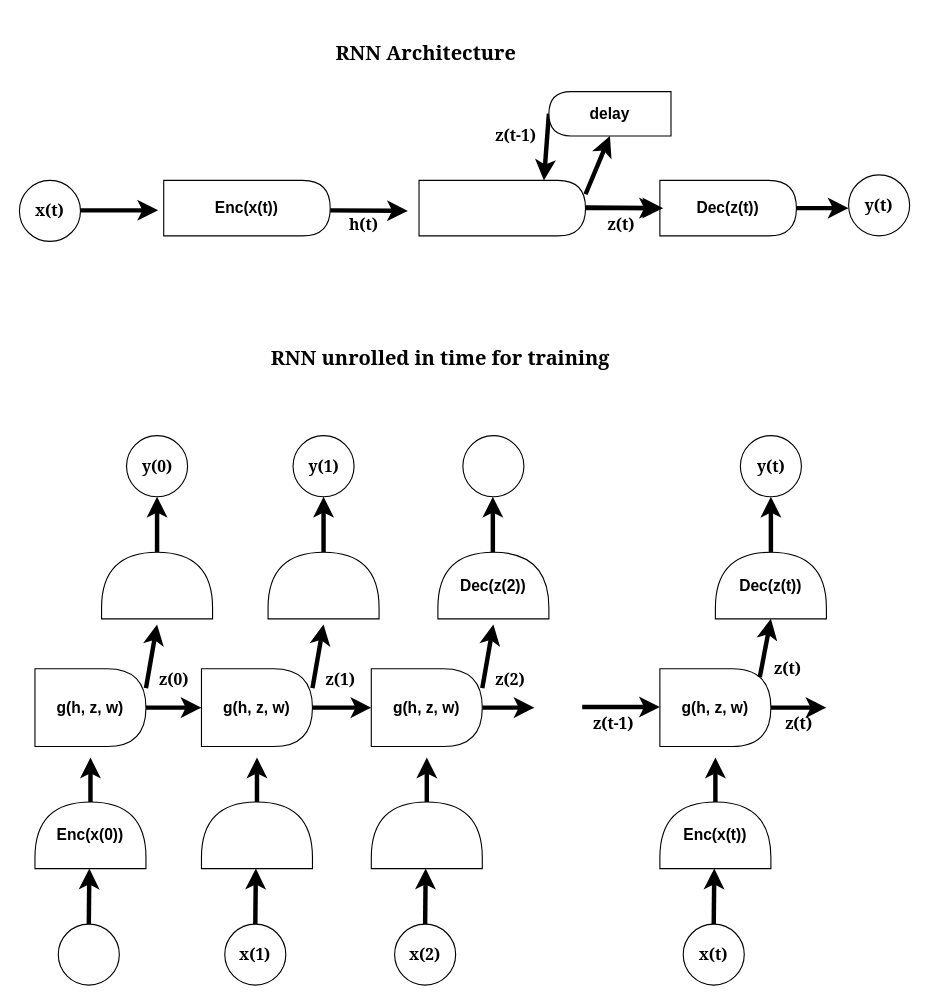
Image size: 929x1005. Some labels were removed from this diagram. The shapes that lost their labels are listed below. From the top down, each one's centre as x and y in pixels, then its label:
the point at 502,207: g(h(t), z(t-1))
the point at 493,466: y(2)
the point at 156,585: Dec(z(0))
the point at 323,585: Dec(z(1))
the point at 256,835: Enc(x(1))
the point at 426,835: Enc(x(2))
the point at 88,954: x(0)
